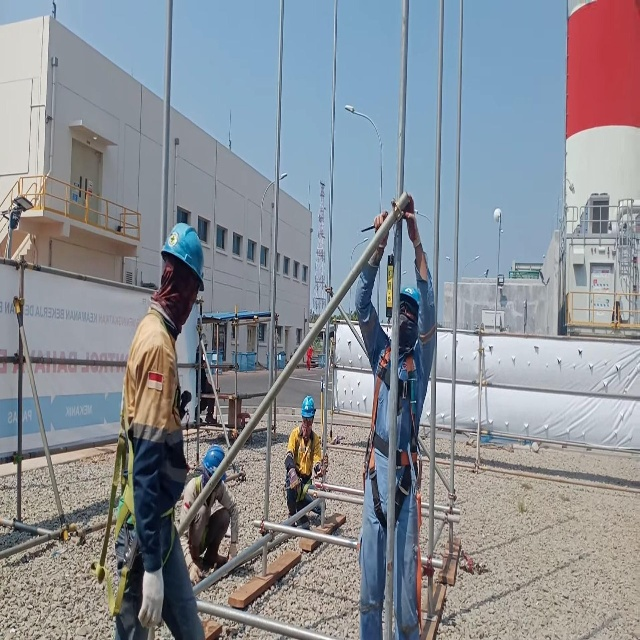Arnes_seguridad: (95, 312, 182, 625), (362, 339, 423, 640), (289, 426, 317, 504)
